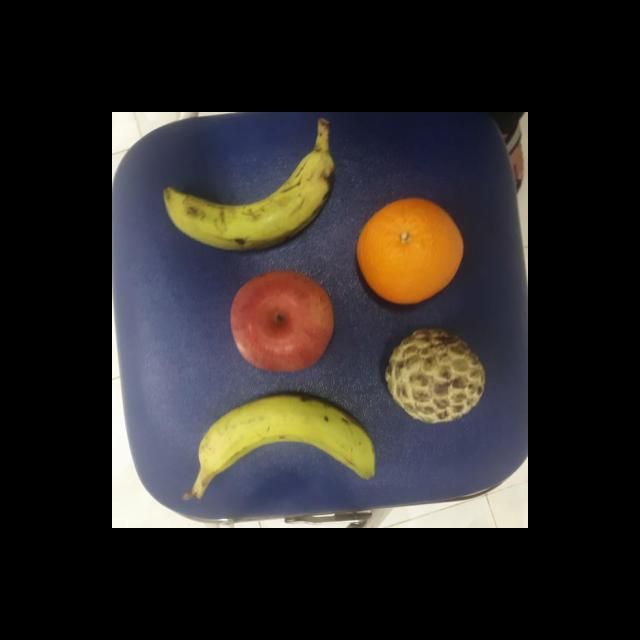Sakya fruit: (382, 324, 489, 425)
apple: (230, 269, 334, 375)
banana: (162, 150, 342, 256), (194, 392, 378, 480)
orange: (354, 197, 465, 307)
